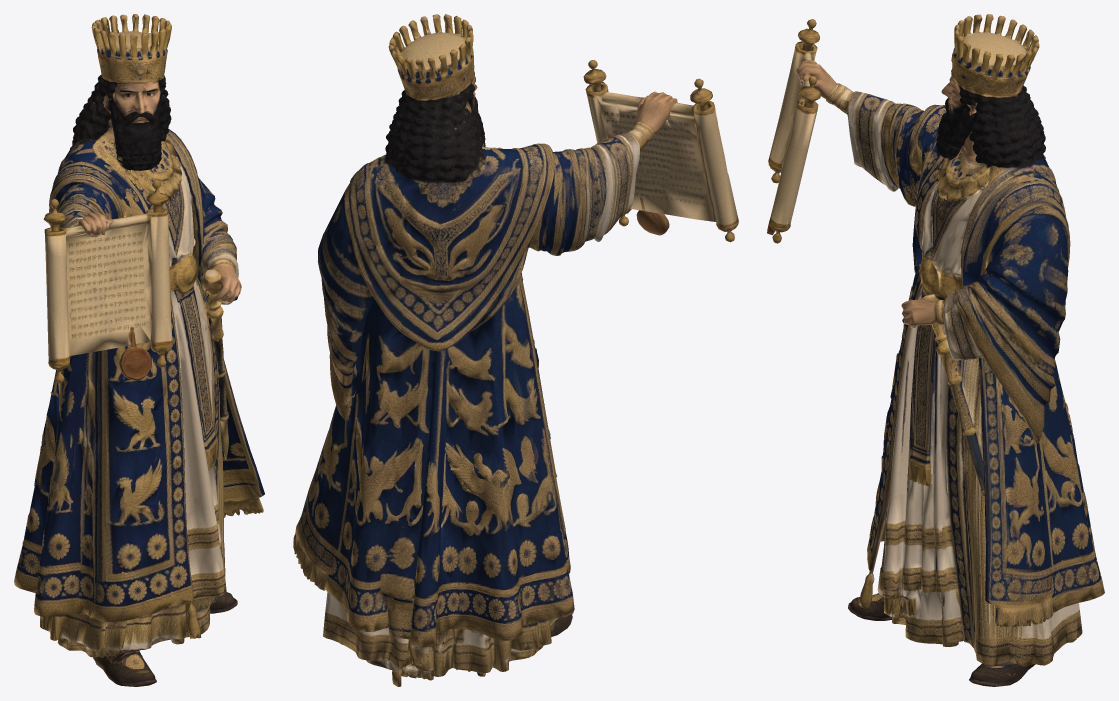
File: decree.glb
The picture shows the model from 3 angles, left to right: view 1: azimuth 30°, elevation 25°; view 2: azimuth 150°, elevation 25°; view 3: azimuth 270°, elevation 25°; orthographic projection. The views are drawn at different scales.
Size of the model in its own units: 1.05 by 1.9 by 0.9429.
Materials: 1 (1 with a texture image).
